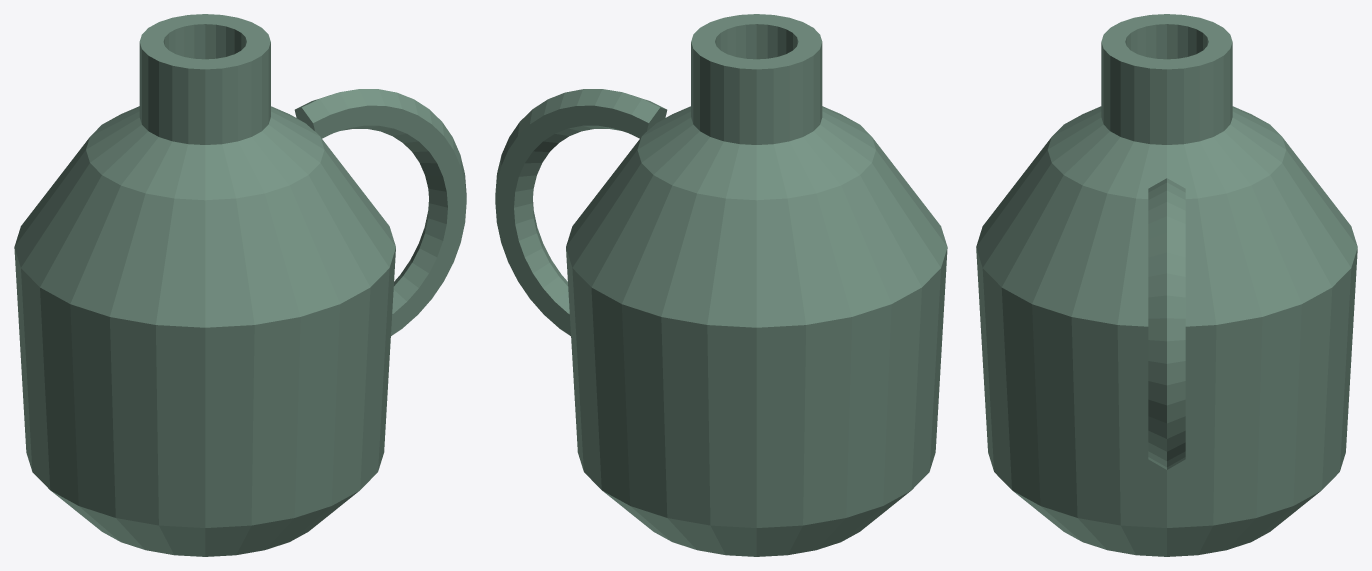
File: water_jug.glb
The picture shows the model from 3 angles, left to right: view 1: azimuth 30°, elevation 25°; view 2: azimuth 150°, elevation 25°; view 3: azimuth 270°, elevation 25°; orthographic projection.
Parts seen in each view (by area): view 1: water_jug • handled field vessel.001; view 2: water_jug • handled field vessel.001; view 3: water_jug • handled field vessel.001.
Boxes of the visible parts, x1,y1,x2,y2 form: water_jug • handled field vessel.001: (14,14,466,556); water_jug • handled field vessel.001: (495,14,947,556); water_jug • handled field vessel.001: (976,14,1357,556).
Bounding box in the file's own units: 0.413 × 0.43 × 0.32.
